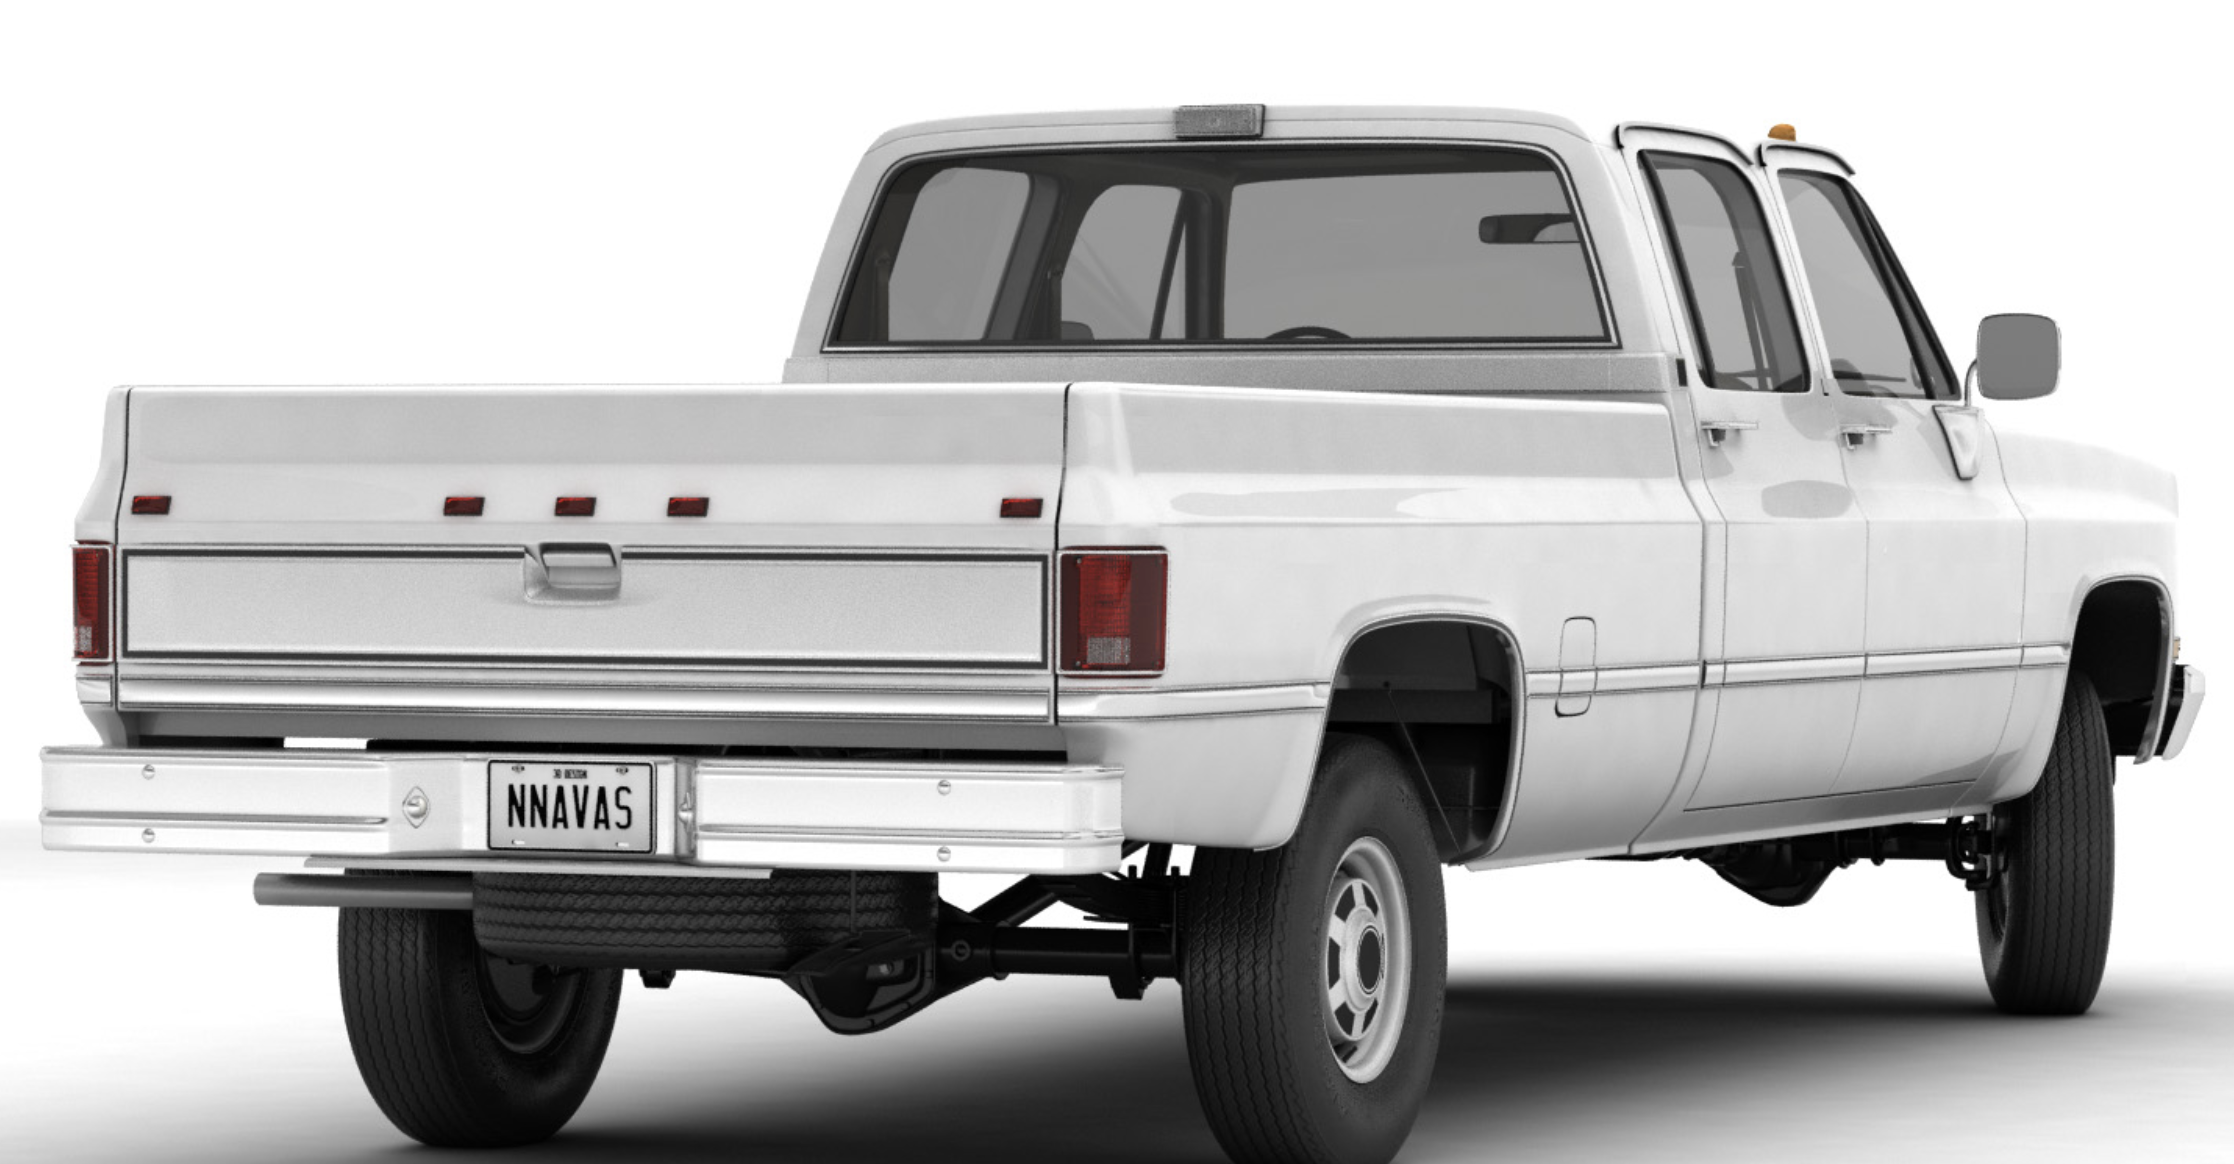hatch: (1544, 607, 1610, 739)
